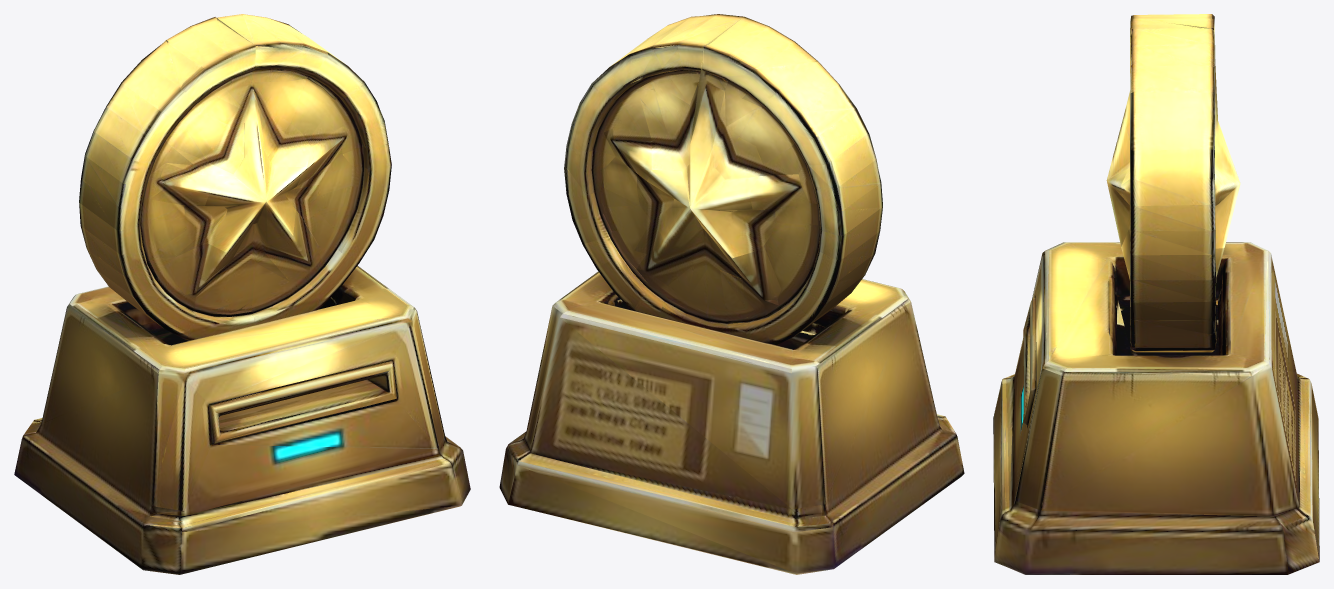
Rendered from free_spin.glb.
3 renders of one model, left to right at view 1: azimuth 30°, elevation 25°; view 2: azimuth 150°, elevation 25°; view 3: azimuth 270°, elevation 25°, orthographic. The views are drawn at different scales.
Size of the model in its own units: 0.7695 by 1 by 0.6367.
1 material, 1 textured.
